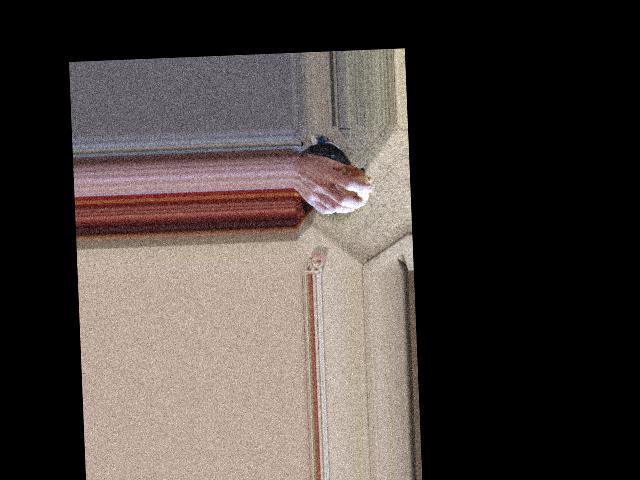onion: (331, 165, 370, 207)
